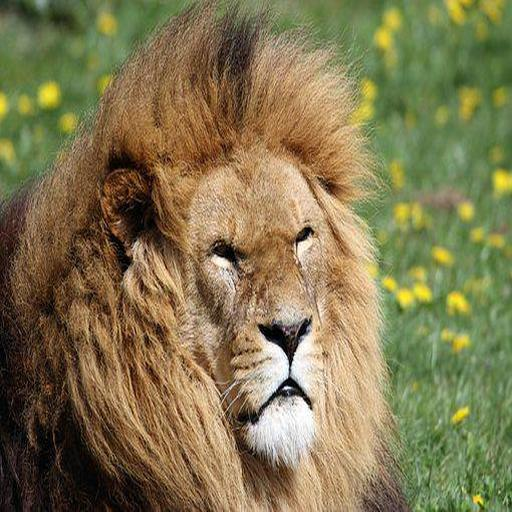Lion: (0, 1, 444, 512)
